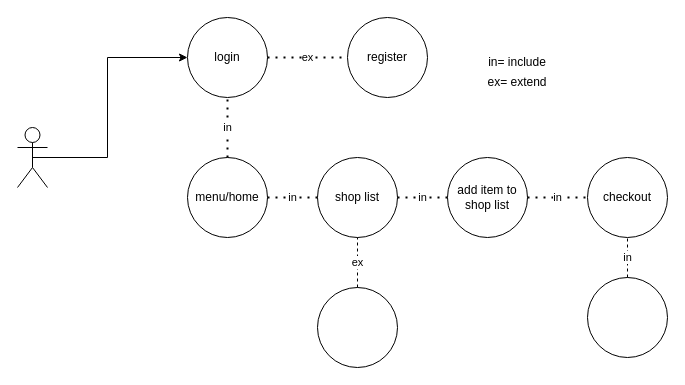
Image size: 685x385. Some labels were removed from this diagram. The centre of each missing label's shape, as x and y in pixels:
"client" goes at [32,157].
"confirm payment" goes at [627,317].
"delete item from shop list" goes at [357,327].
